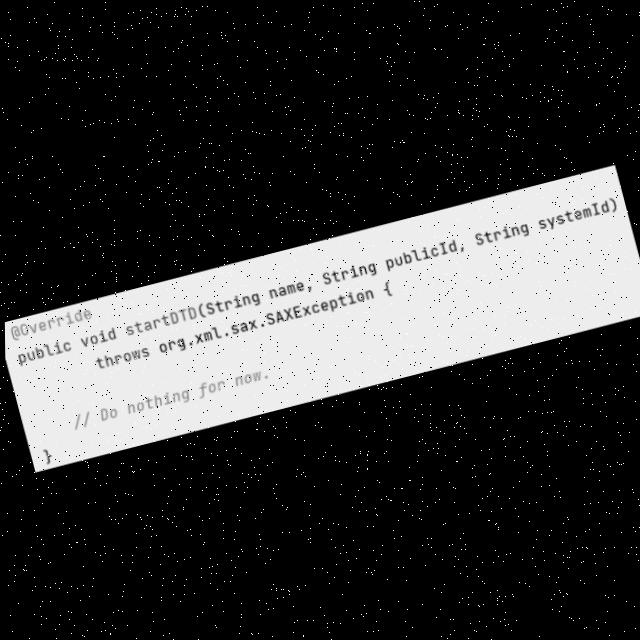code_screen: (5, 164, 640, 469)
